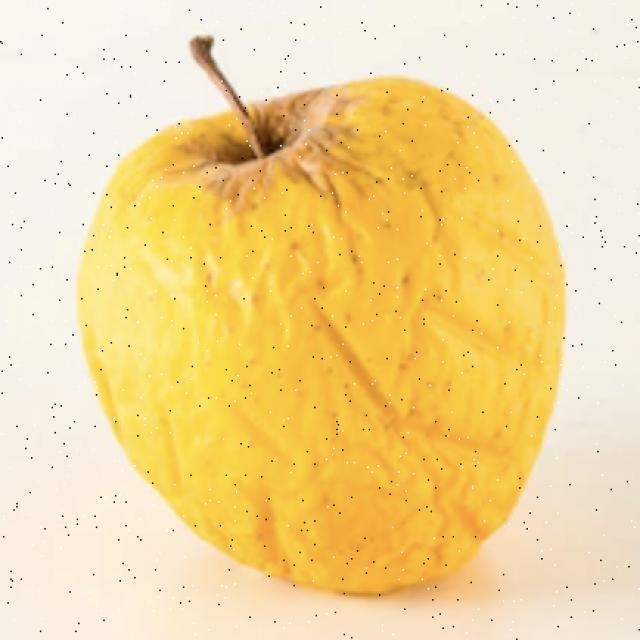Rotten: (120, 98, 547, 585)
